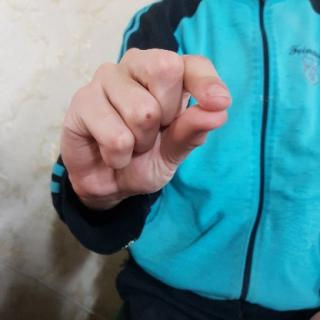FAA: (56, 44, 240, 212)
